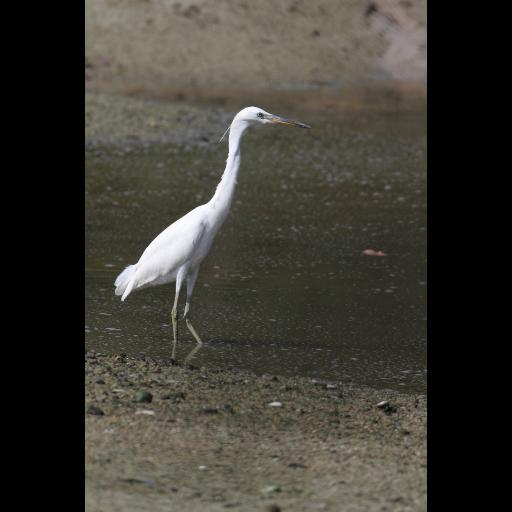chinese_egret: (114, 106, 312, 344)
